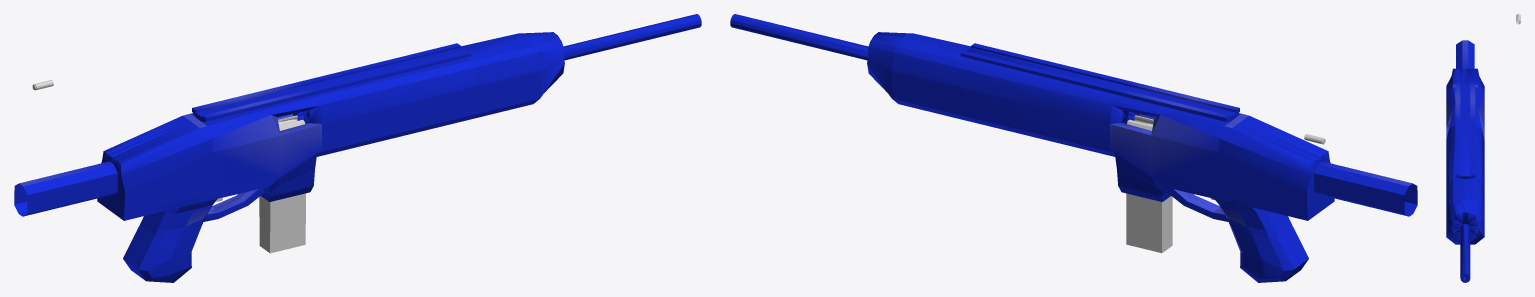
File: Rifle.fbx
3 renders of one model, left to right at view 1: azimuth 30°, elevation 25°; view 2: azimuth 150°, elevation 25°; view 3: azimuth 270°, elevation 25°, orthographic. The views are drawn at different scales.
Parts seen in each view (by area): view 1: pCylinderShape6, pCube2; view 2: pCylinderShape6, pCube2; view 3: pCylinderShape6.
Boxes of the visible parts, x1=… form: pCylinderShape6: x1=14, y1=14, x2=701, y2=282; pCube2: x1=259, y1=115, x2=305, y2=253; pCylinderShape6: x1=730, y1=14, x2=1417, y2=282; pCube2: x1=1126, y1=115, x2=1172, y2=252; pCylinderShape6: x1=1446, y1=40, x2=1484, y2=282.
Bounding box in the file's own units: 1847 × 492 × 245.
